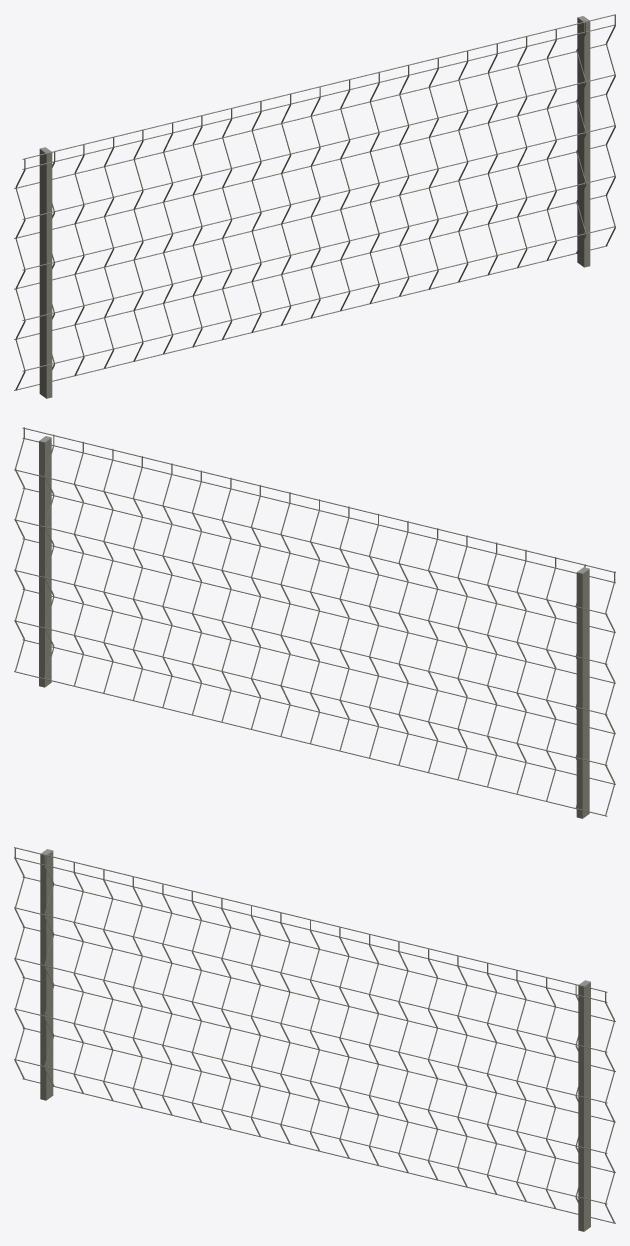
Rendered from toremeshsingle_h800_soutiencollar.fbx.
The picture shows the model from 3 angles, top to bottom: view 1: azimuth 30°, elevation 25°; view 2: azimuth 150°, elevation 25°; view 3: azimuth 330°, elevation 25°; orthographic projection.
Parts seen in each view (by area): view 1: toremeshsingle_h800_stain; view 2: toremeshsingle_h800_stain; view 3: toremeshsingle_h800_stain.
Part boxes in pixels (x1,y1,x2,y2): toremeshsingle_h800_stain: (14,14,615,398); toremeshsingle_h800_stain: (14,427,615,818); toremeshsingle_h800_stain: (14,847,615,1231).
Size of the model in its own units: 199 by 79.15 by 5.67.
2 materials, 2 textured.
